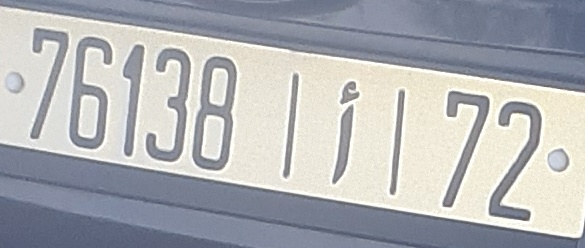1: (120, 39, 146, 160)
2: (488, 100, 544, 221)
3: (146, 46, 192, 164)
6: (70, 35, 112, 152)
7: (441, 88, 489, 209), (28, 24, 70, 142)
8: (192, 55, 241, 172)
a: (326, 80, 360, 186)
